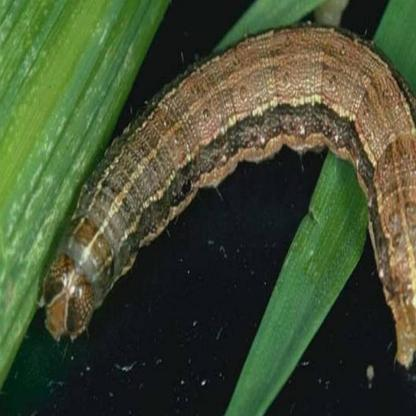armyworm: (34, 25, 416, 388)
